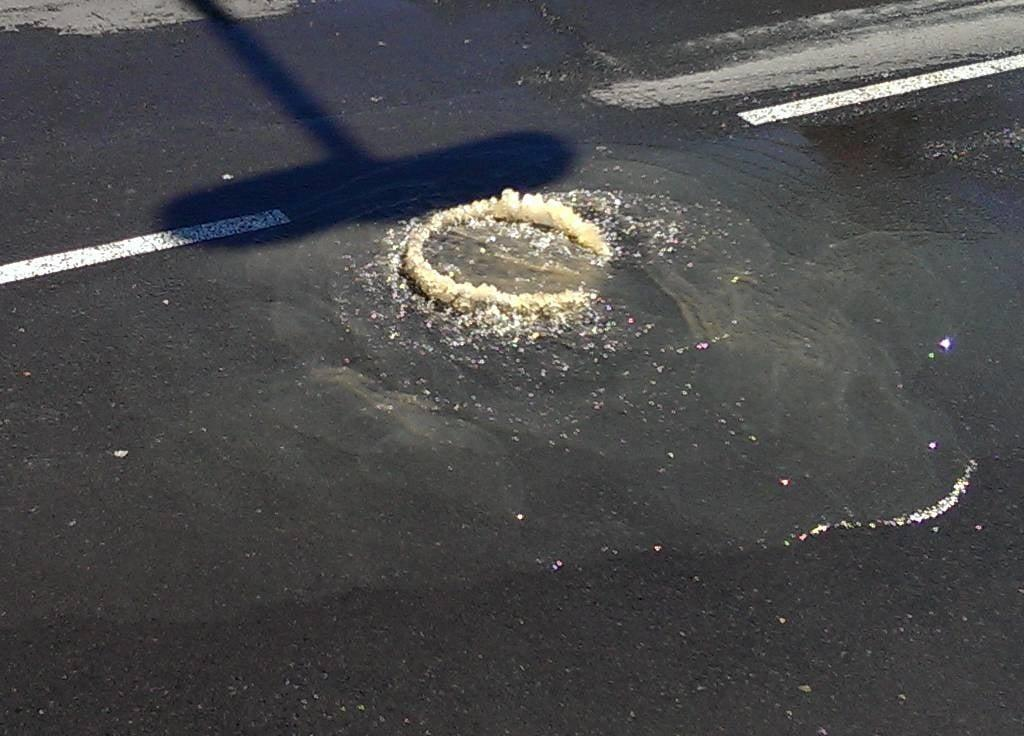water_leak: (313, 185, 872, 463)
